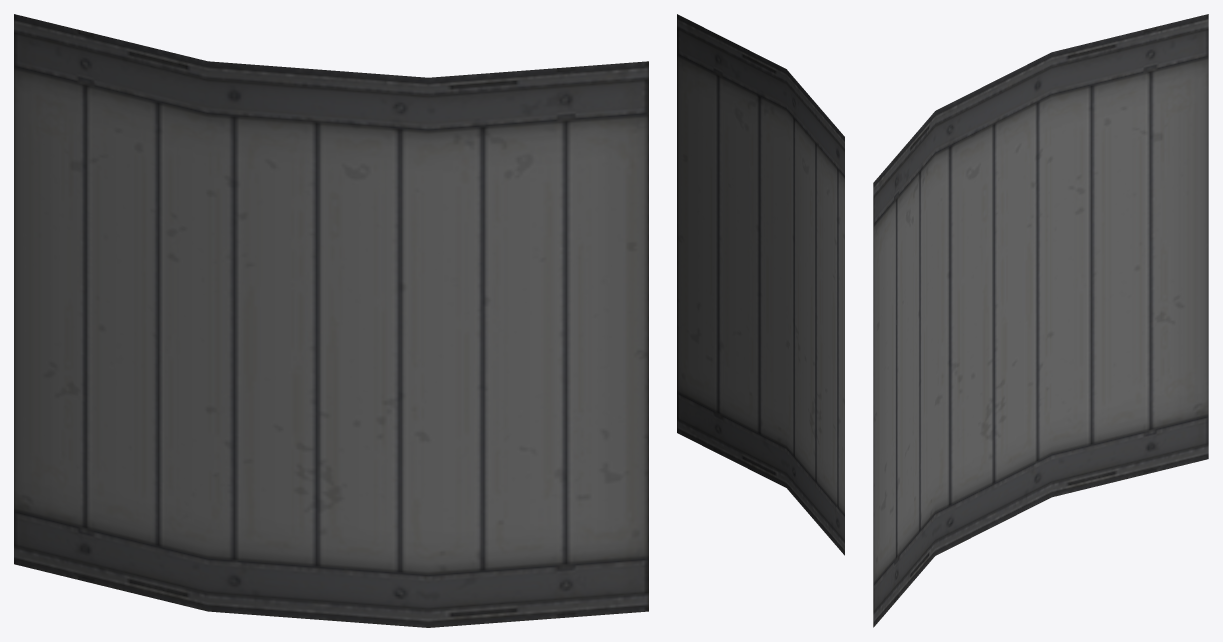
Rendered from tianhuaban.FBX.
3 renders of one model, left to right at view 1: azimuth 30°, elevation 25°; view 2: azimuth 150°, elevation 25°; view 3: azimuth 270°, elevation 25°, orthographic. The views are drawn at different scales.
Visible parts, largest first — view 1: Cylinder001; view 2: Cylinder001; view 3: Cylinder001.
Part boxes in pixels (<box>): Cylinder001: <box>14,14,648,627</box>; Cylinder001: <box>677,14,844,555</box>; Cylinder001: <box>873,14,1208,627</box>.
Size of the model in its own units: 21.8 by 26.8 by 18.29.
